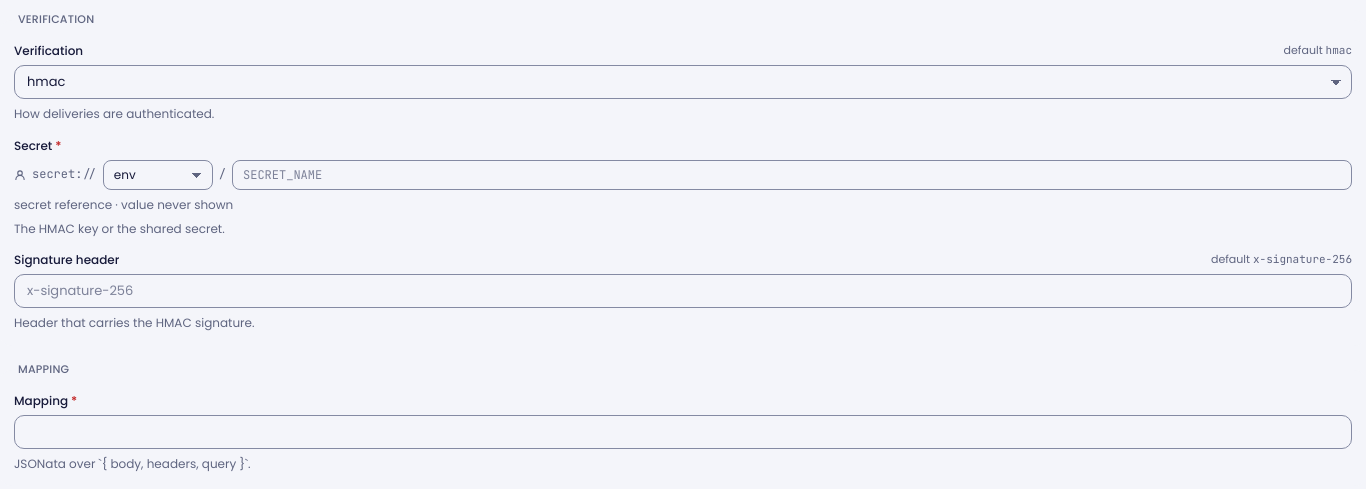
it: SchemaForm › honours if/then: fields of branches that do not apply are hidden and not required
Expected: the field labelled "Signature header" is shown, [14, 274, 1352, 308]
Select "none" in the dropdown labelled "Verification" at (683, 82), box [14, 65, 1352, 99]
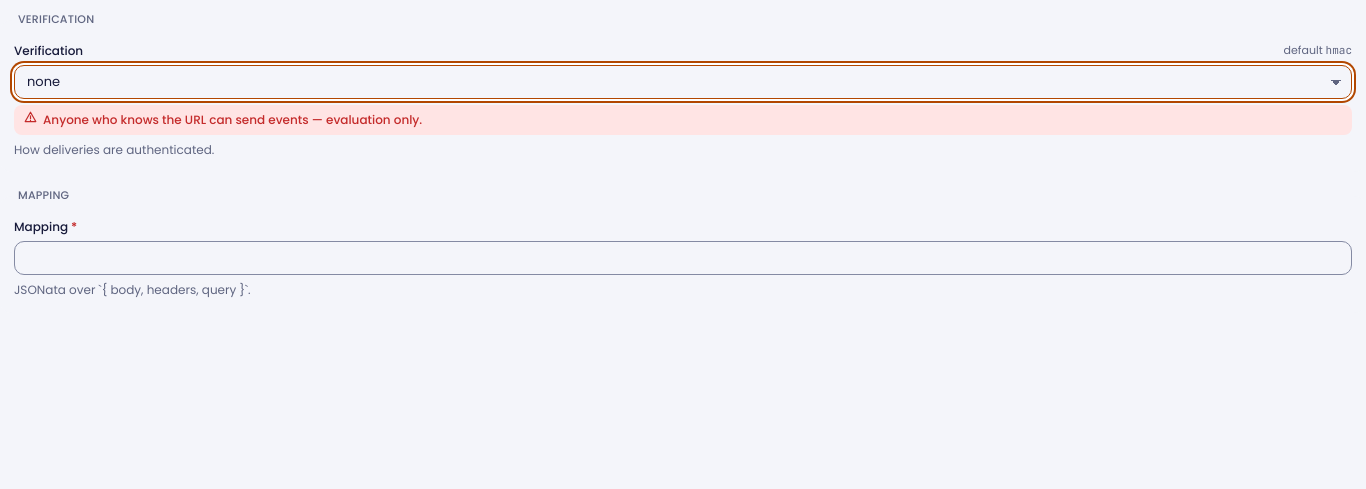
Expected: the field labelled "Mapping *" is shown, [14, 241, 1352, 275]
Now the text "Secret" is gone
Now the label labelled "Signature header" is gone
